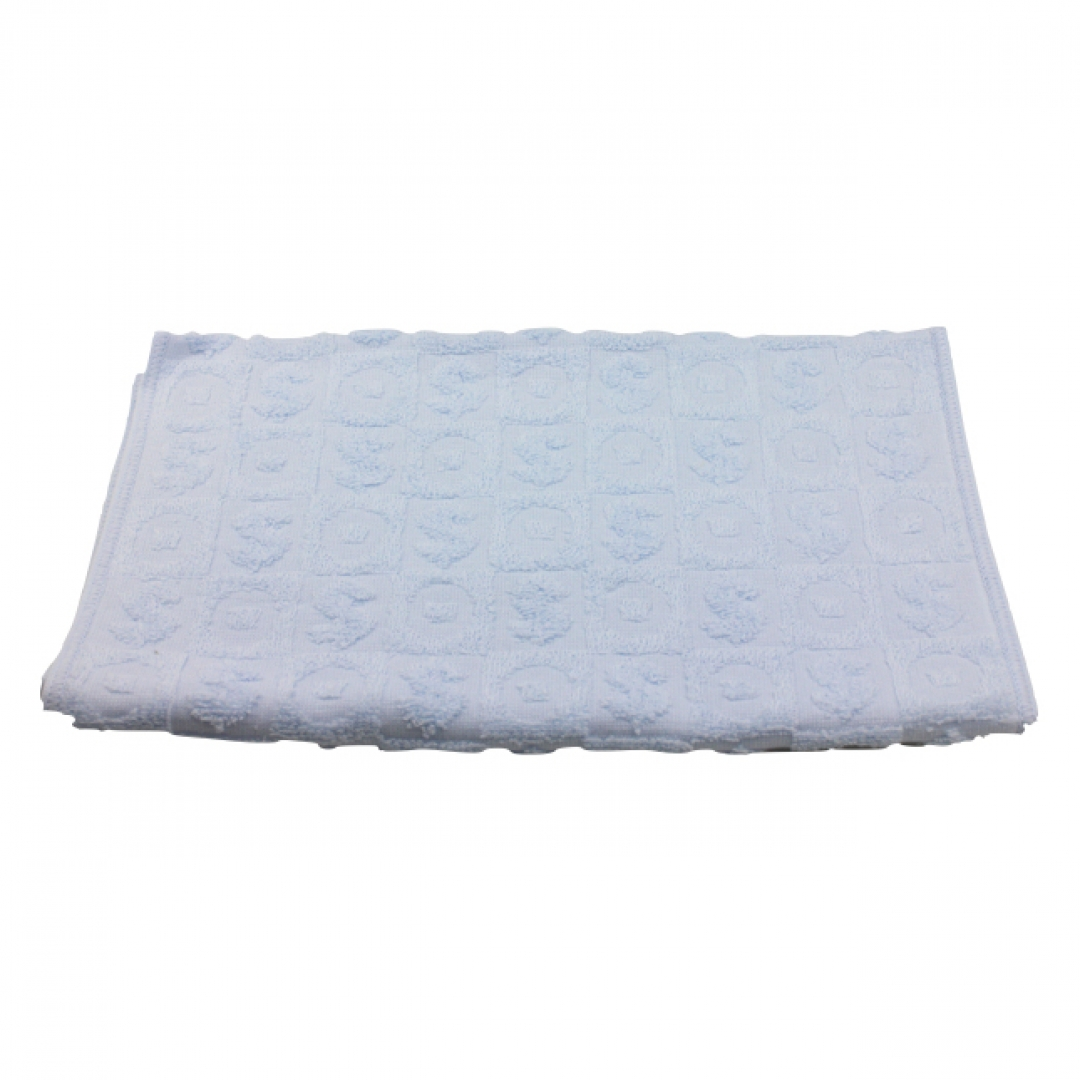flexible: (39, 325, 1039, 756)
